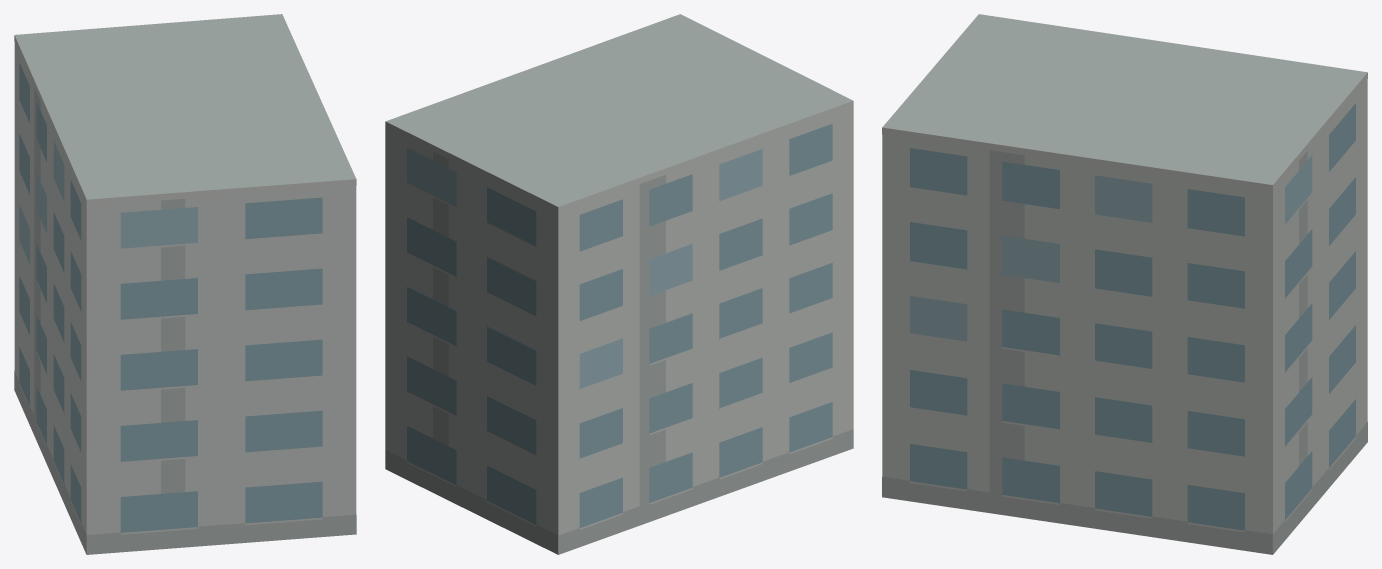
The model's file is survey-upis-32894369.glb.
3 renders of one model, left to right at view 1: azimuth 30°, elevation 25°; view 2: azimuth 150°, elevation 25°; view 3: azimuth 270°, elevation 25°, orthographic. The views are drawn at different scales.
Parts seen in each view (by area): view 1: survey-upis-32894369.tmp; view 2: survey-upis-32894369.tmp; view 3: survey-upis-32894369.tmp.
Part boxes in pixels (<box>): survey-upis-32894369.tmp: <box>14,14,356,554</box>; survey-upis-32894369.tmp: <box>385,14,853,554</box>; survey-upis-32894369.tmp: <box>882,14,1367,554</box>.
Size of the model in its own units: 13.21 by 13.3 by 15.84.
